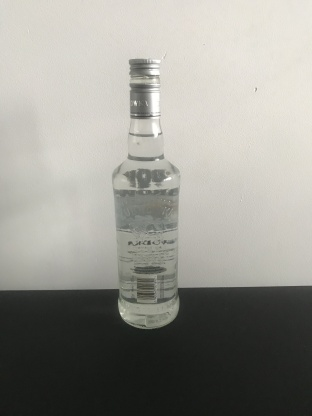nakretka: (127, 55, 162, 120)
